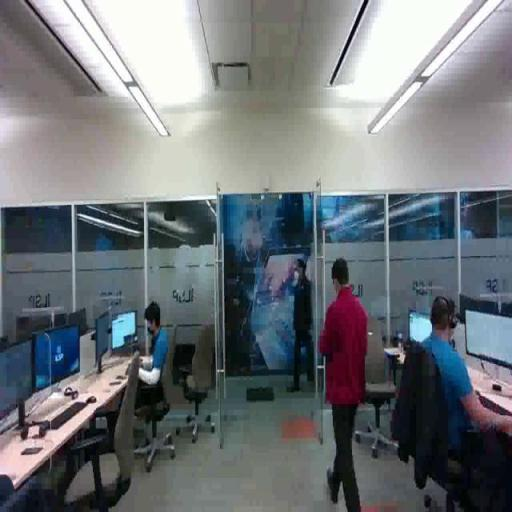person: (415, 295, 512, 487), (317, 250, 376, 512), (123, 303, 178, 426), (291, 257, 321, 398)
